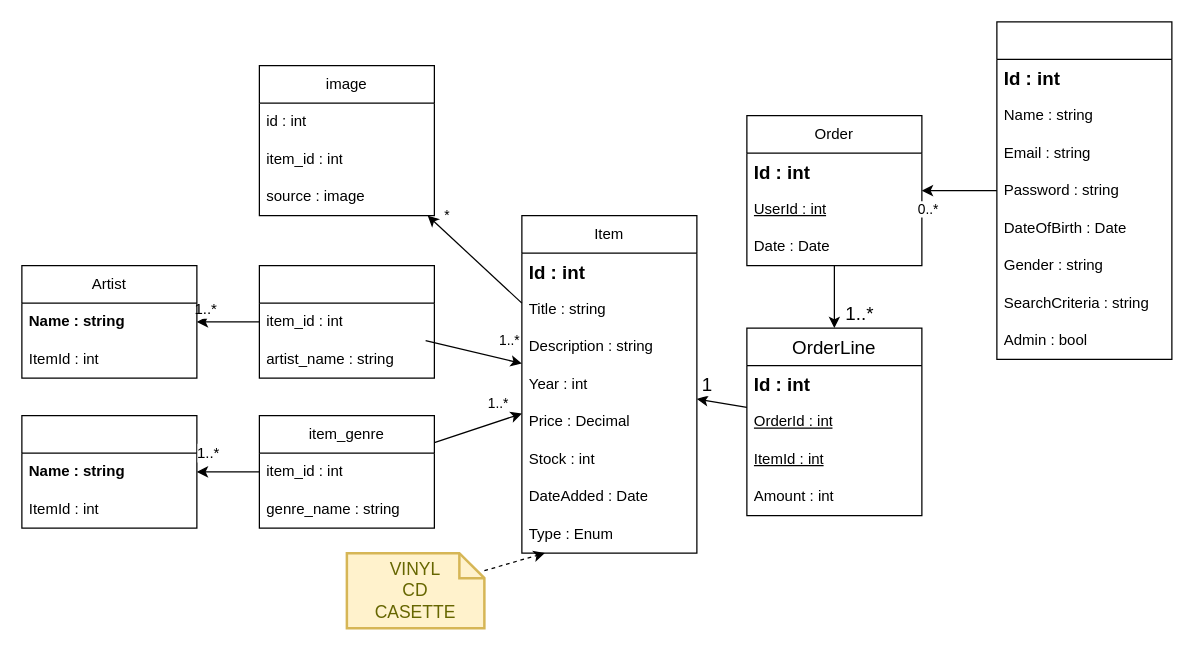
Image size: 1194x651. Some labels were removed from this diagram. The shapes that lost their labels are listed below. From the top down, each one's box as (x1, y1, x2, y2) in pixels, then its label:
(996, 21, 1172, 359): User
(258, 264, 434, 378): item_artist
(21, 414, 197, 528): Genre
